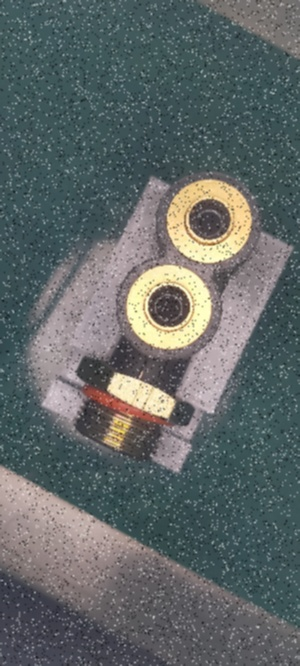craze: (136, 354, 150, 385)
